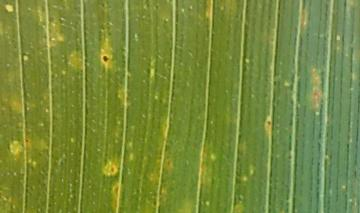tarspot: (101, 53, 112, 66), (112, 184, 118, 207), (106, 165, 117, 175), (266, 119, 273, 128)
